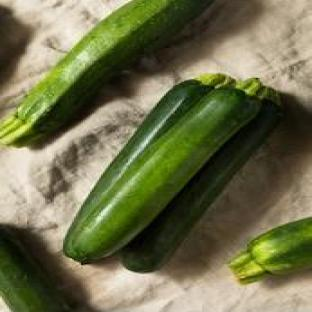Zucchini: (64, 80, 263, 262), (120, 94, 281, 272), (80, 74, 234, 215), (0, 227, 70, 311), (230, 218, 311, 284)
